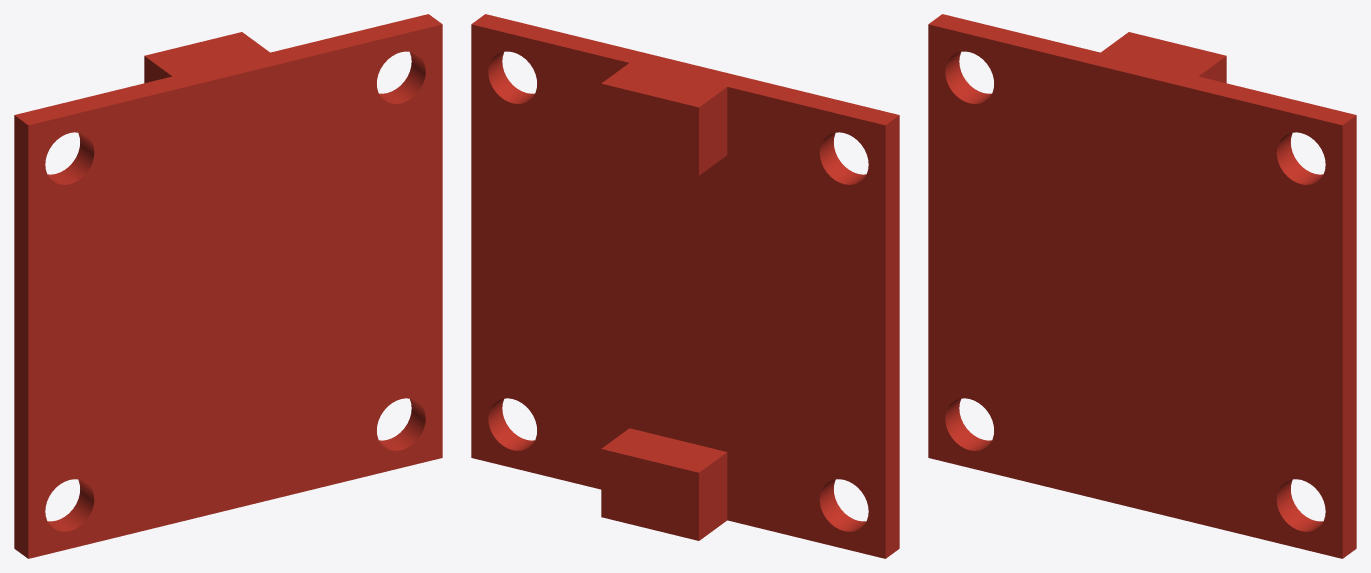
The model's file is imu.fbx.
The picture shows the model from 3 angles, left to right: view 1: azimuth 30°, elevation 25°; view 2: azimuth 150°, elevation 25°; view 3: azimuth 330°, elevation 25°; orthographic projection.
Visible parts, largest first — view 1: Body1; view 2: Body1; view 3: Body1.
Part boxes in pixels (left/top/right/bottom): Body1: left=14, top=14, right=442, bottom=558; Body1: left=471, top=14, right=899, bottom=558; Body1: left=928, top=14, right=1356, bottom=558.
Bounding box in the file's own units: 25.4 × 25.4 × 4.5.
